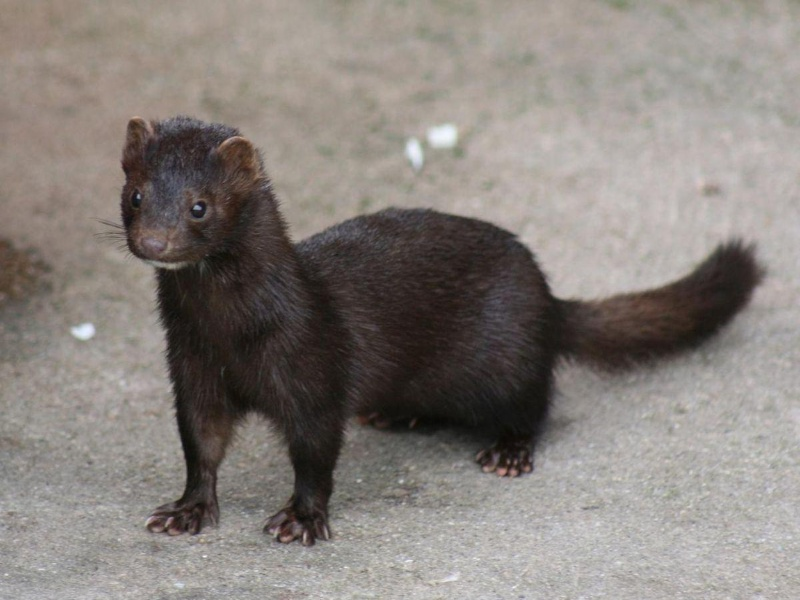minkish: (117, 116, 767, 557)
